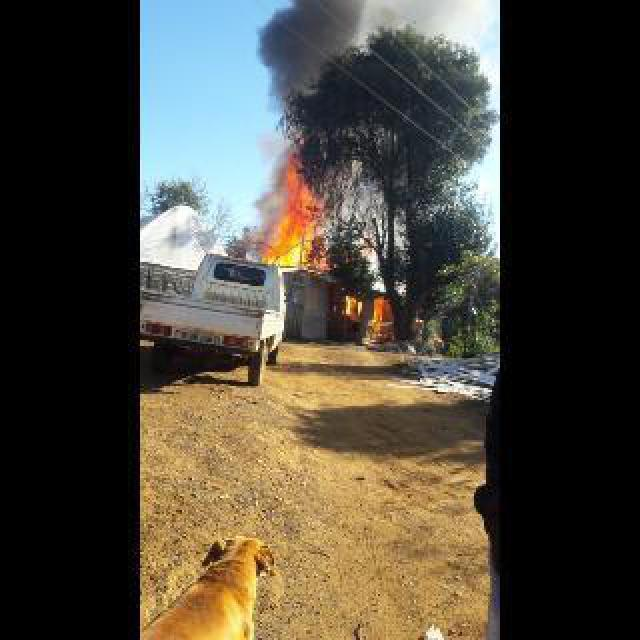Fire: (254, 150, 324, 268), (368, 302, 380, 332)
Smoke: (252, 6, 300, 182)
